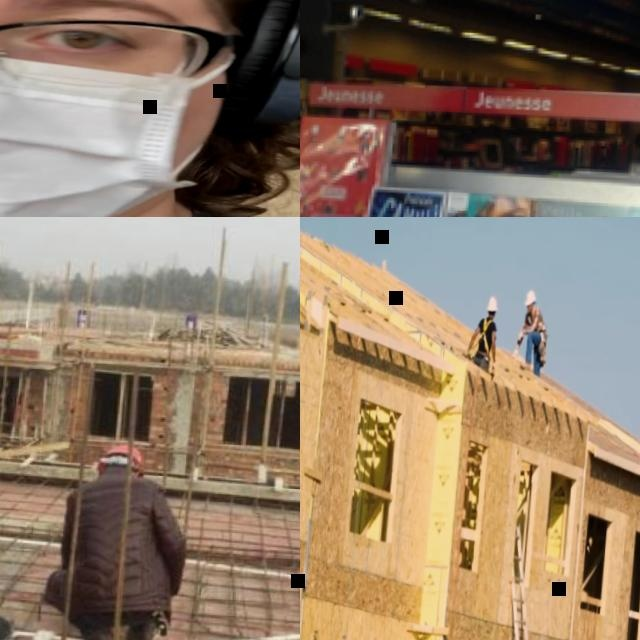Hardhat: (98, 444, 147, 475), (525, 291, 537, 308), (488, 298, 499, 314)
Mask: (0, 47, 242, 217)
NO-Mask: (529, 309, 533, 315)
NO-Safety Vest: (63, 473, 174, 614), (479, 317, 494, 356), (527, 308, 547, 334)
Person: (0, 0, 300, 217), (40, 434, 195, 640), (513, 290, 551, 378), (468, 296, 501, 376)
